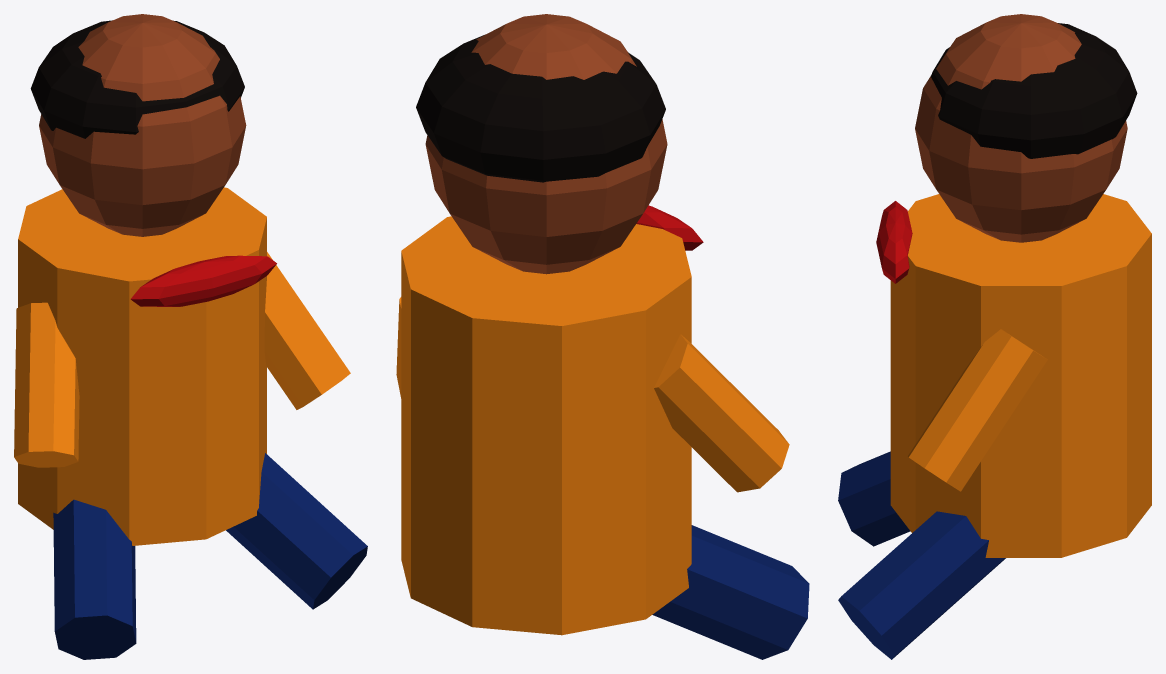
File: persona_convivencia_3.obj
The picture shows the model from 3 angles, left to right: view 1: azimuth 30°, elevation 25°; view 2: azimuth 150°, elevation 25°; view 3: azimuth 270°, elevation 25°; orthographic projection. The views are drawn at different scales.
Parts seen in each view (by area): view 1: persona_convivencia_3; view 2: persona_convivencia_3; view 3: persona_convivencia_3.
Part boxes in pixels (x1,y1,x2,y2): persona_convivencia_3: [14, 14, 367, 659]; persona_convivencia_3: [396, 14, 809, 659]; persona_convivencia_3: [838, 14, 1151, 659].
Size of the model in its own units: 0.8092 by 1.31 by 0.6489.
